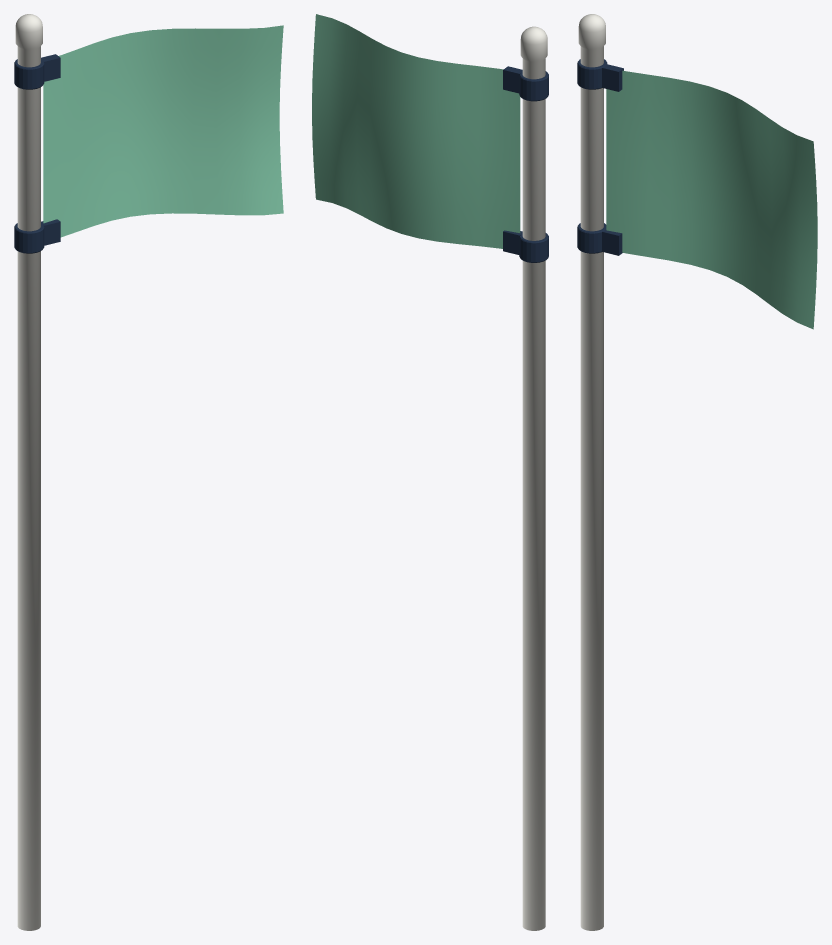
Rendered from corner-flag.glb.
3 views of the same model, side by side, from view 1: azimuth 30°, elevation 25°; view 2: azimuth 150°, elevation 25°; view 3: azimuth 330°, elevation 25° (orthographic).
Visible parts, largest first — view 1: corner-flag-cloth, corner-flag-pole, corner-flag-clips; view 2: corner-flag-cloth, corner-flag-pole, corner-flag-clips; view 3: corner-flag-cloth, corner-flag-pole, corner-flag-clips.
Boxes of the visible parts, left/top/right/bottom form: corner-flag-cloth: left=43, top=25, right=283, bottom=237; corner-flag-pole: left=15, top=14, right=42, bottom=930; corner-flag-clips: left=14, top=54, right=60, bottom=253; corner-flag-cloth: left=312, top=14, right=520, bottom=248; corner-flag-pole: left=520, top=26, right=547, bottom=930; corner-flag-clips: left=503, top=66, right=548, bottom=262; corner-flag-cloth: left=606, top=70, right=817, bottom=329; corner-flag-pole: left=578, top=14, right=605, bottom=930; corner-flag-clips: left=577, top=59, right=623, bottom=255.
Size of the model in its own units: 0.4325 by 1.5 by 0.0786.
